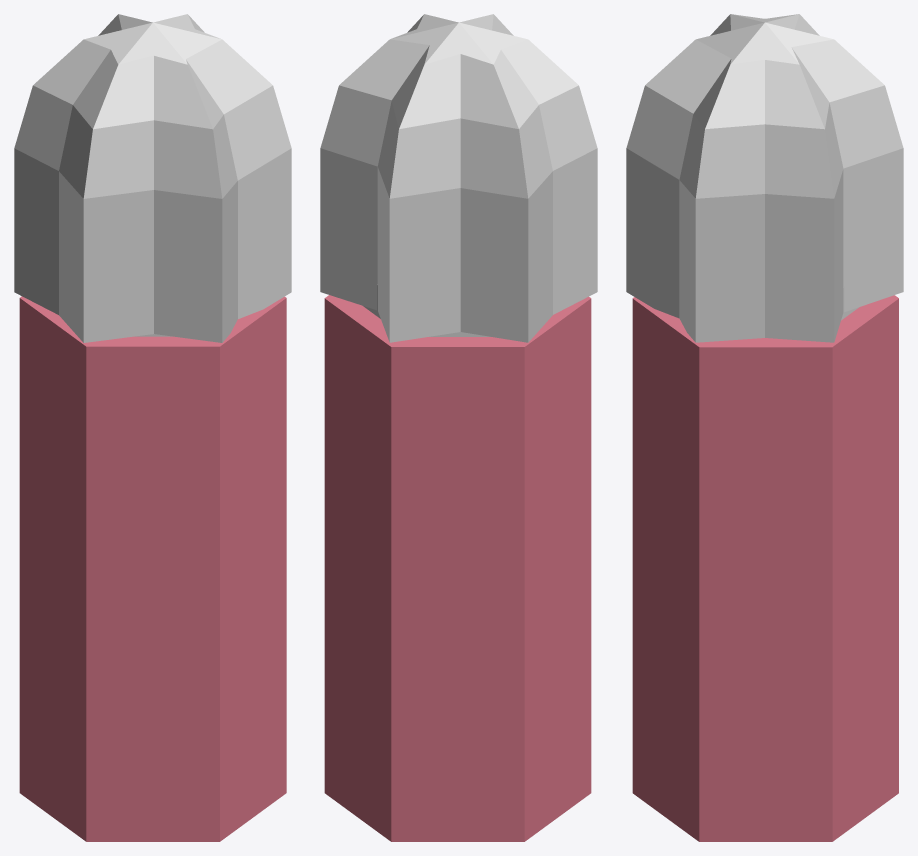
File: 3D_PU_RangeUp.fbx
The picture shows the model from 3 angles, left to right: view 1: azimuth 30°, elevation 25°; view 2: azimuth 150°, elevation 25°; view 3: azimuth 270°, elevation 25°; orthographic projection.
Visible parts, largest first — view 1: Tube, Bouchon; view 2: Tube, Bouchon; view 3: Tube, Bouchon.
Boxes of the visible parts, <box> form: Tube: <box>19,296,286,841</box>; Bouchon: <box>14,14,291,342</box>; Tube: <box>324,285,591,841</box>; Bouchon: <box>320,14,597,342</box>; Tube: <box>632,287,898,841</box>; Bouchon: <box>626,14,903,342</box>.
Size of the model in its own units: 0.6268 by 2.22 by 0.7237.
